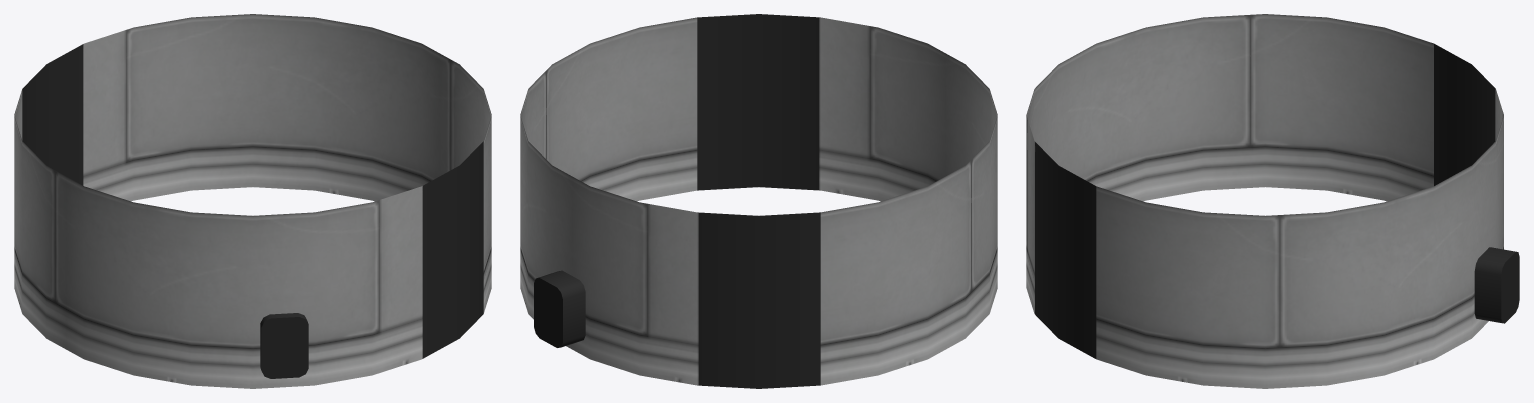
The model's file is tantares_basic_fuel_tank_s1_1.obj.
The picture shows the model from 3 angles, left to right: view 1: azimuth 30°, elevation 25°; view 2: azimuth 150°, elevation 25°; view 3: azimuth 270°, elevation 25°; orthographic projection.
Parts seen in each view (by area): view 1: mesh2; view 2: mesh2; view 3: mesh2.
Part boxes in pixels (x1,y1,x2,y2): mesh2: (14,14,491,388); mesh2: (520,14,997,388); mesh2: (1026,14,1519,388).
Size of the model in its own units: 1.25 by 0.5 by 1.29.
